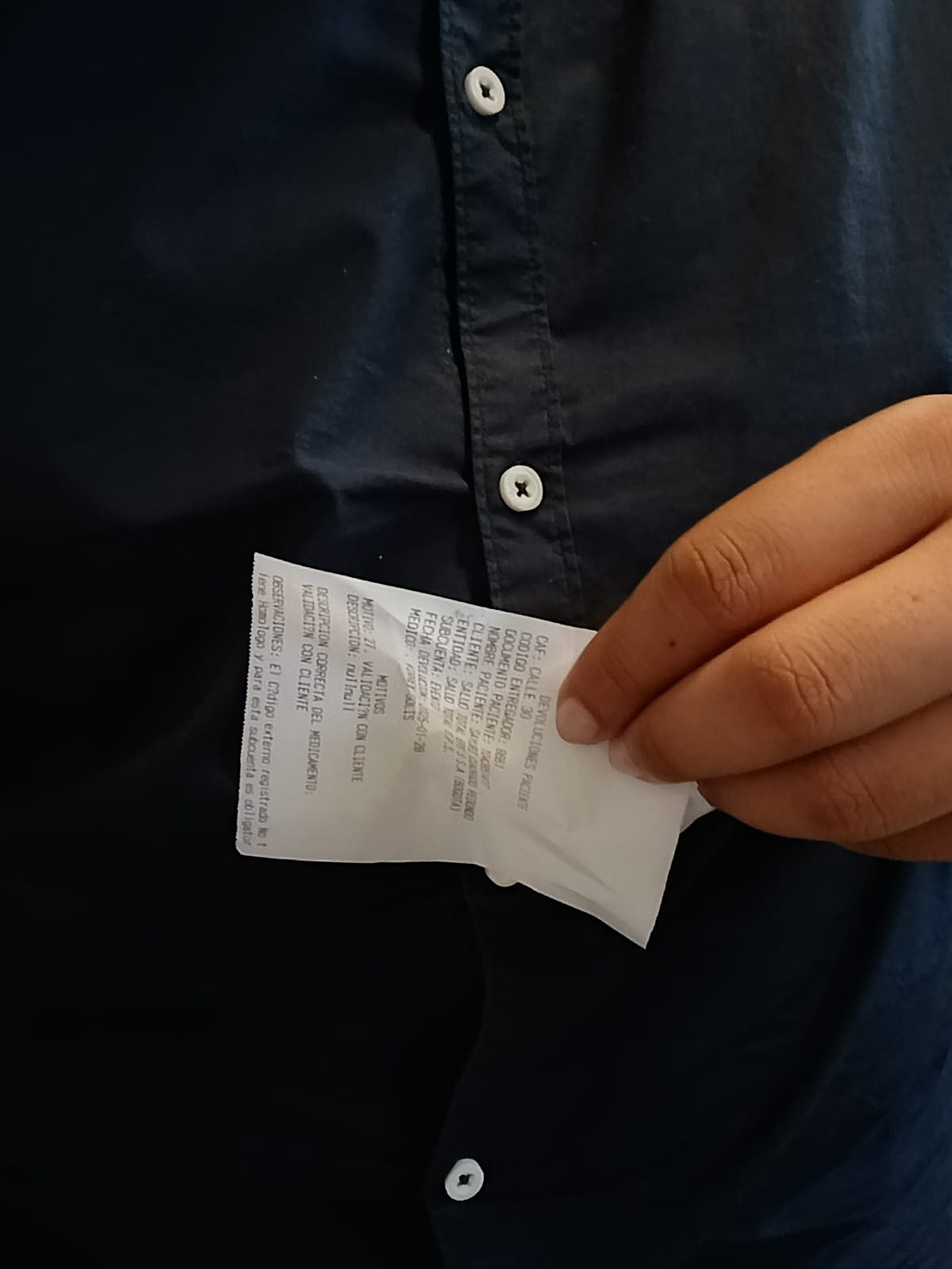Papel: (234, 552, 699, 950)
